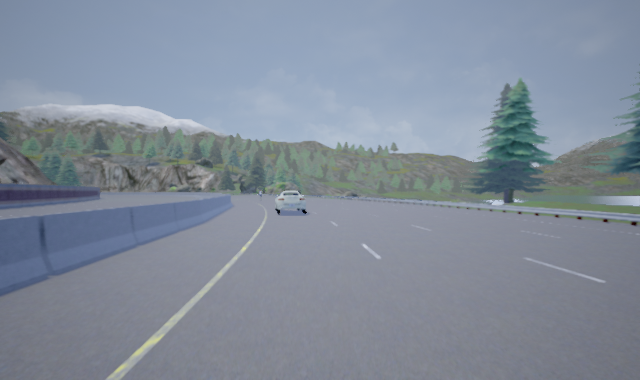vehicle: (274, 190, 308, 215)
